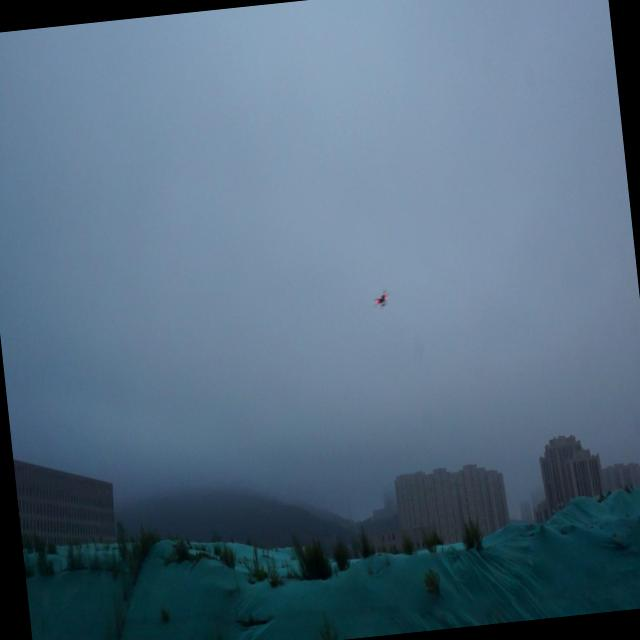drone: (372, 285, 391, 316)
